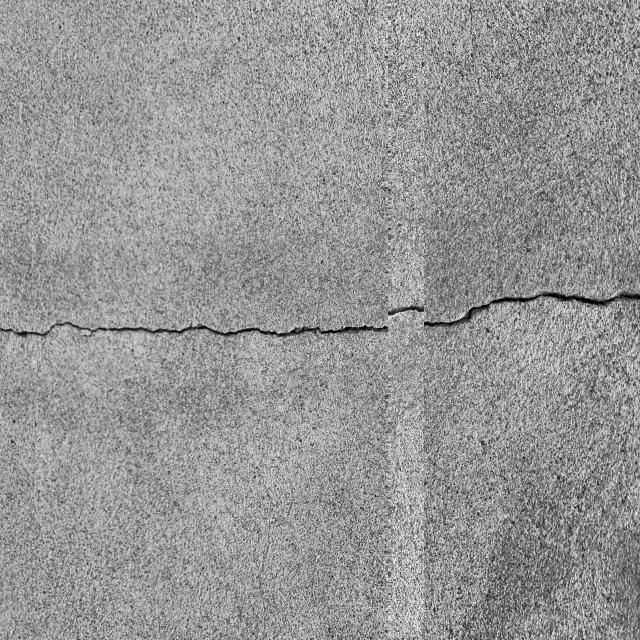horizontal crack: (7, 285, 640, 368)
